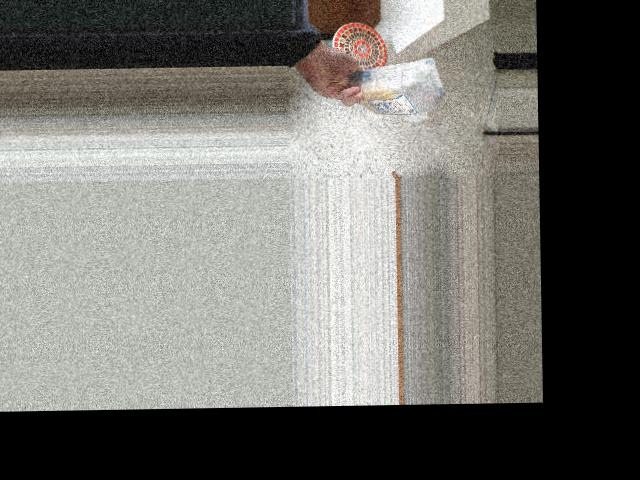cheese: (351, 62, 446, 116)
